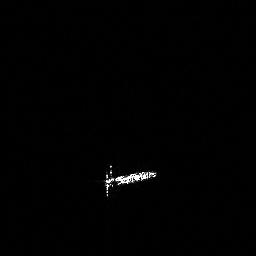ship: (99, 161, 159, 200)
